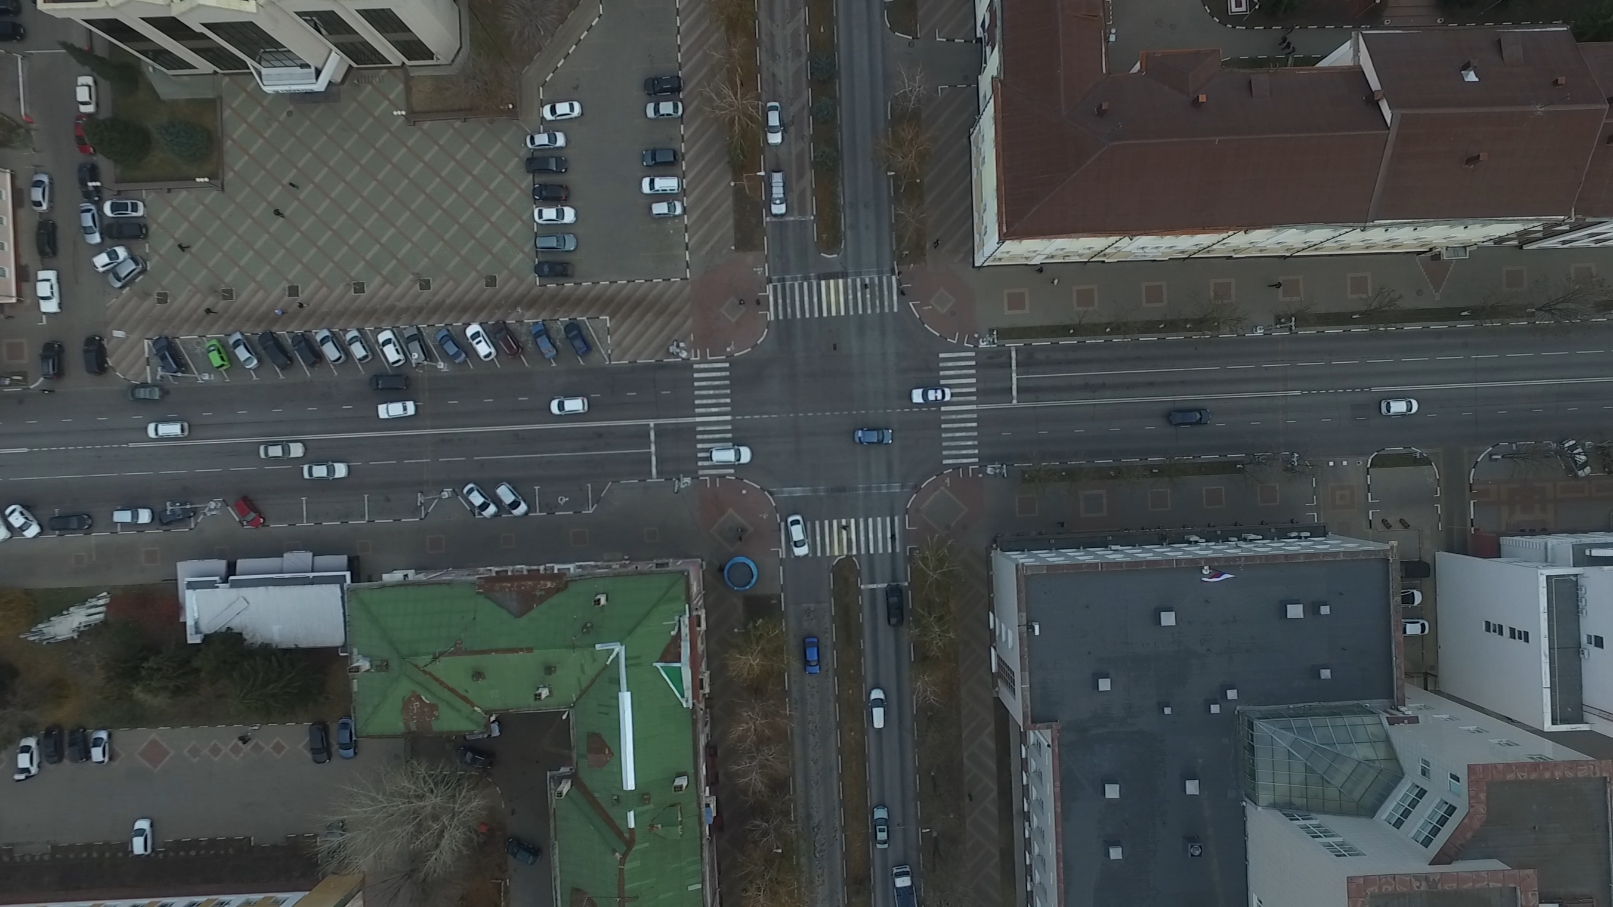car: (147, 336, 187, 378), (783, 514, 818, 559), (459, 481, 500, 518), (257, 332, 292, 374), (1561, 434, 1595, 476), (220, 332, 256, 372), (314, 330, 348, 370), (34, 266, 63, 312), (463, 324, 497, 363), (3, 502, 38, 540), (105, 255, 147, 286), (485, 323, 520, 361), (428, 326, 462, 363), (307, 718, 333, 765), (395, 328, 425, 370), (14, 734, 42, 780), (35, 725, 70, 762), (505, 838, 544, 870), (325, 821, 352, 865), (526, 324, 556, 365), (493, 482, 527, 517), (373, 329, 405, 367), (891, 866, 919, 907), (153, 503, 197, 529), (458, 748, 496, 777), (80, 336, 106, 379), (91, 243, 131, 271), (338, 331, 371, 365), (27, 172, 54, 213), (102, 219, 146, 245), (130, 817, 156, 859), (881, 583, 907, 625), (73, 202, 99, 245), (286, 333, 317, 369), (71, 117, 96, 159), (75, 161, 101, 202), (869, 803, 891, 849), (299, 461, 348, 482), (531, 207, 576, 229), (763, 101, 785, 146), (335, 714, 358, 757), (71, 76, 97, 114), (232, 496, 263, 528), (563, 324, 592, 359), (201, 337, 228, 372), (100, 199, 144, 221), (257, 441, 308, 460), (535, 100, 581, 121), (39, 340, 62, 381), (368, 373, 411, 394), (640, 100, 684, 121), (1167, 408, 1212, 427), (47, 513, 94, 532), (521, 159, 568, 178), (866, 689, 887, 731), (533, 235, 577, 255), (910, 386, 956, 405), (88, 731, 112, 766), (34, 228, 56, 267), (641, 75, 680, 97), (707, 447, 752, 466), (768, 173, 787, 218), (70, 725, 93, 762), (639, 177, 681, 197), (638, 147, 676, 169), (644, 200, 682, 221), (530, 184, 569, 204), (524, 133, 566, 152), (548, 398, 590, 416), (1378, 398, 1420, 416), (531, 262, 574, 280), (147, 421, 191, 439), (852, 425, 892, 444), (130, 386, 169, 405), (374, 401, 415, 419), (803, 636, 821, 674), (112, 506, 153, 523), (1400, 559, 1431, 580), (1, 516, 18, 555), (1399, 586, 1422, 609), (1397, 617, 1428, 633), (1, 27, 24, 45)
